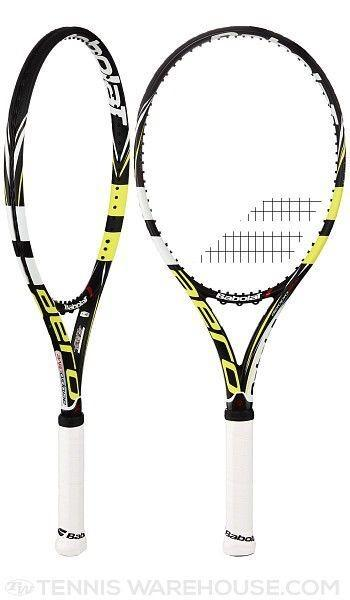Tennis-Racket: (130, 29, 346, 550), (3, 31, 130, 552)
